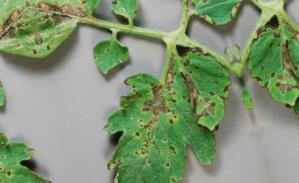Tomato Septoria leaf spot: (56, 40, 266, 183), (18, 0, 122, 64), (124, 0, 226, 49)
